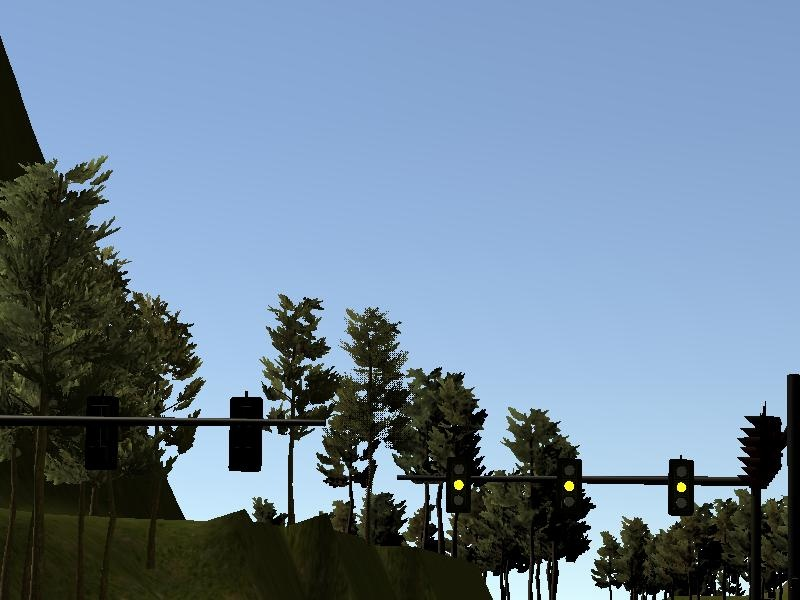YELLOW: (669, 458, 694, 515), (447, 457, 471, 512), (558, 457, 581, 512)
